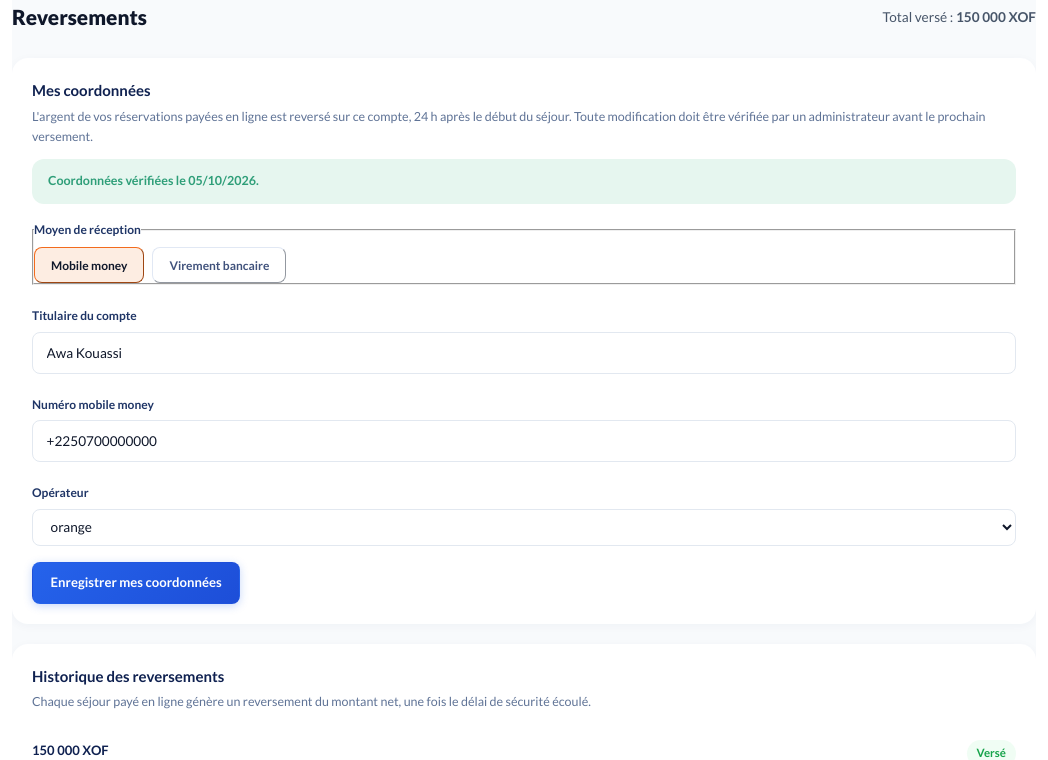
Test case: ReversementsPage › bascule en virement bancaire et valide les champs requis
Check: the field labelled "Titulaire du compte" is shown, box [32, 332, 1016, 374]
Click the button "Virement bancaire": (219, 266) [152, 248, 286, 284]
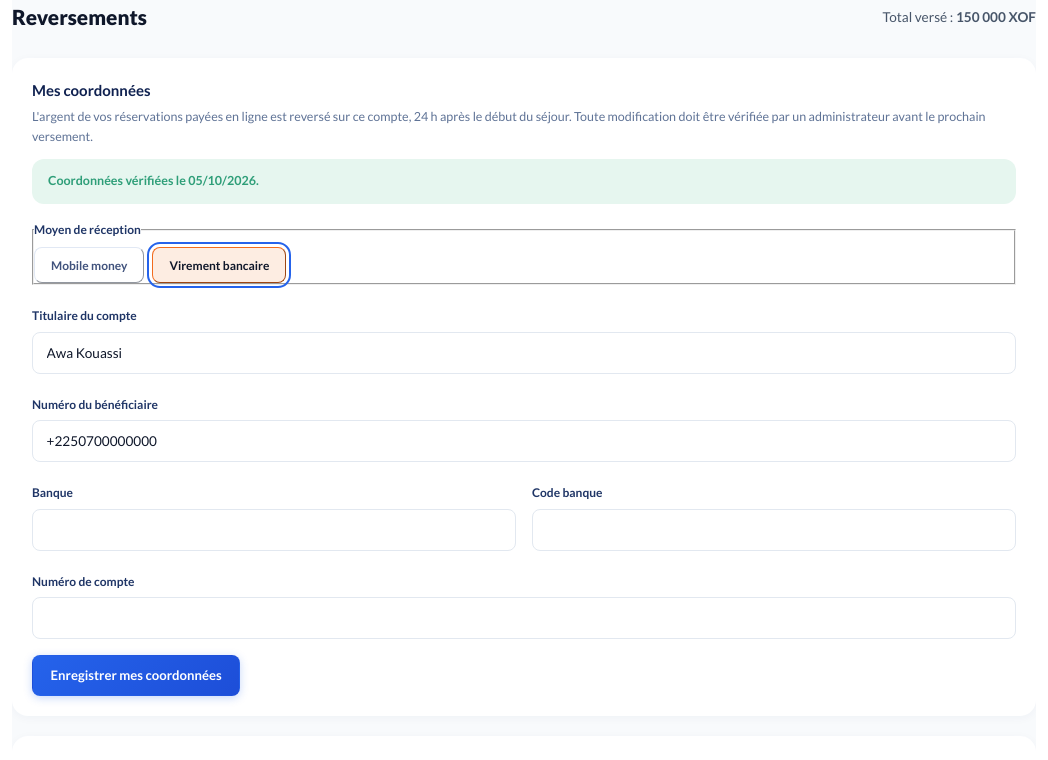
Check: the field labelled "Banque" is shown
Check: the field labelled "Code banque" is shown, box [532, 509, 1016, 551]
Check: the field labelled "Numéro de compte" is shown, box [32, 597, 1016, 639]
In the field labelled "Banque": (274, 530) [32, 509, 516, 551], type "Ecobank"
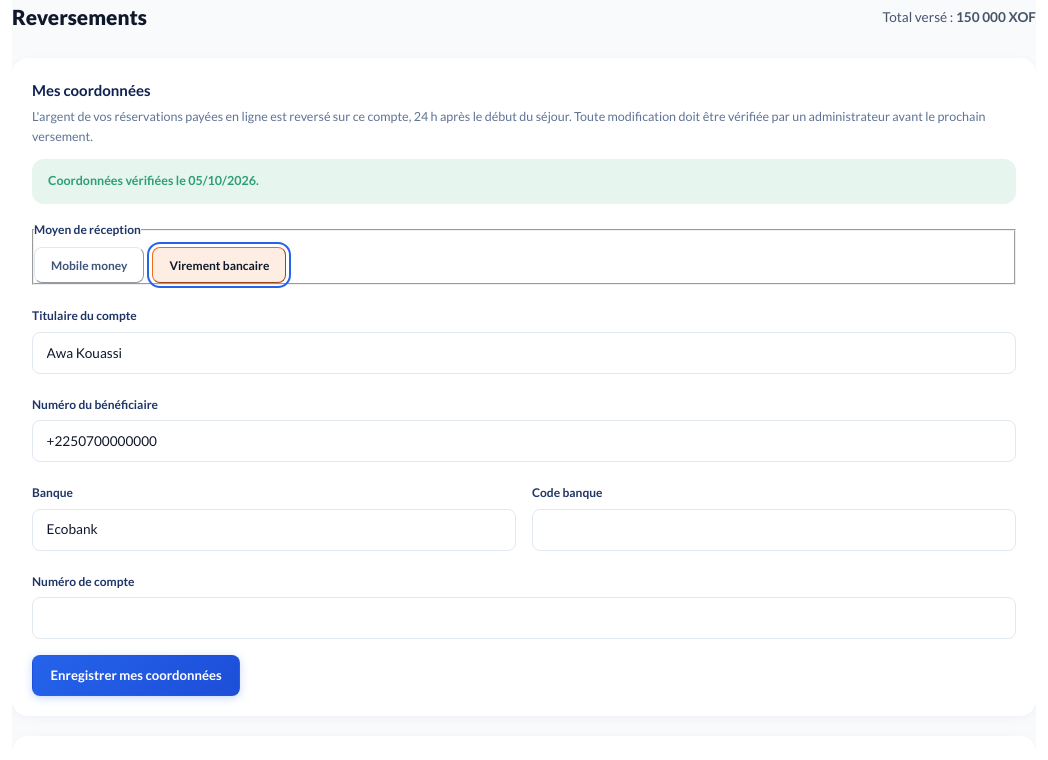
In the field labelled "Code banque": (774, 530) [532, 509, 1016, 551], type "CI001"
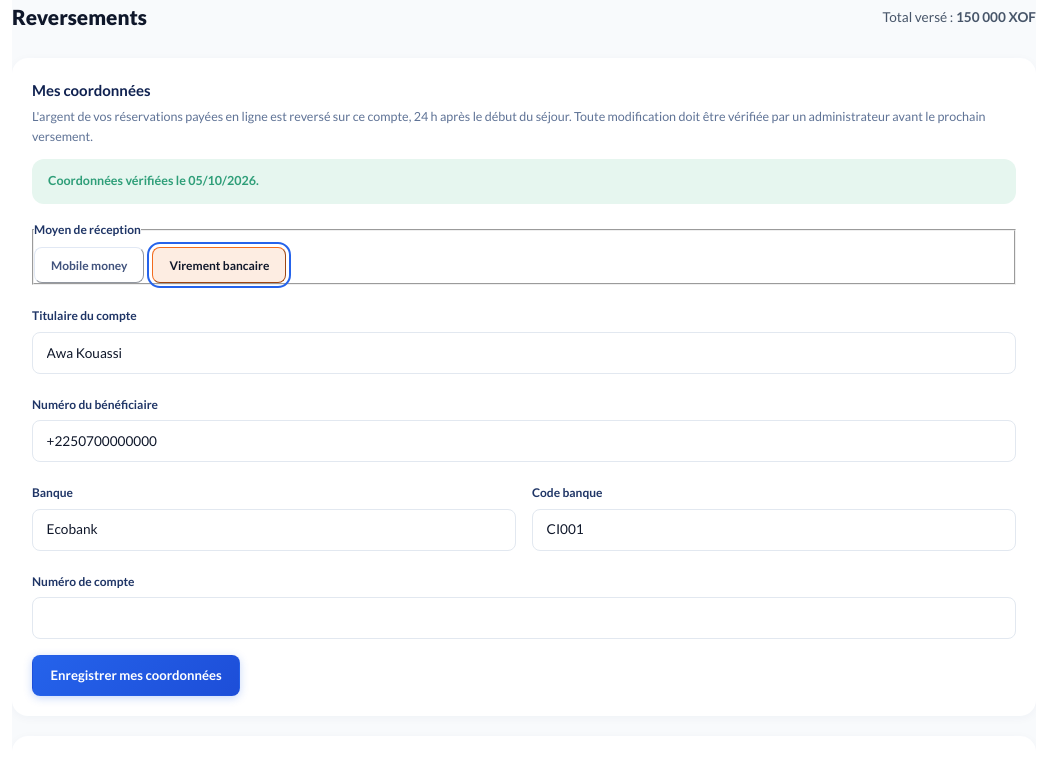
Click the button "Enregistrer mes coordonnées": (136, 676) [32, 655, 240, 696]
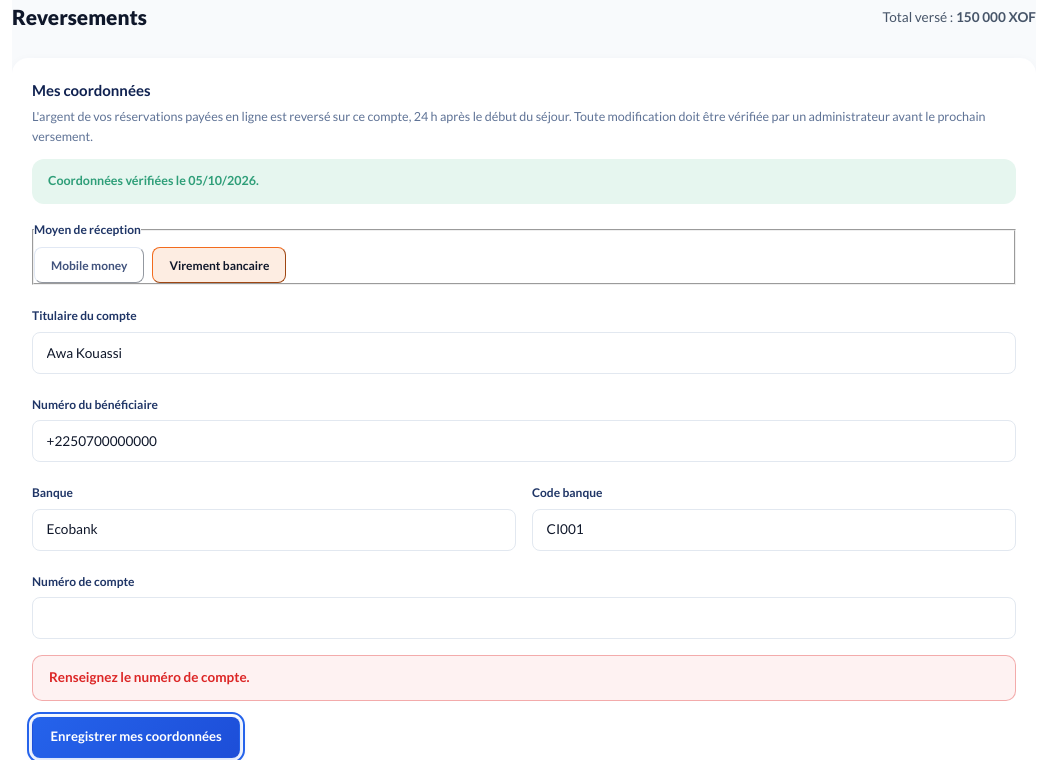
Check: the text "Renseignez le numéro de compte." is shown, box [32, 655, 1016, 701]
